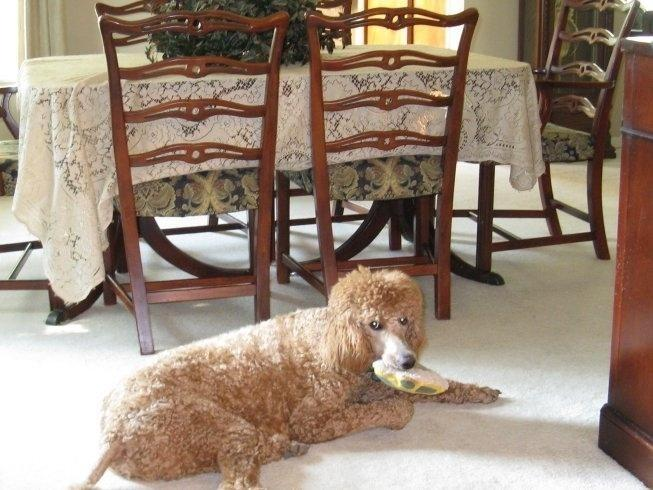dog: (74, 267, 429, 489)
